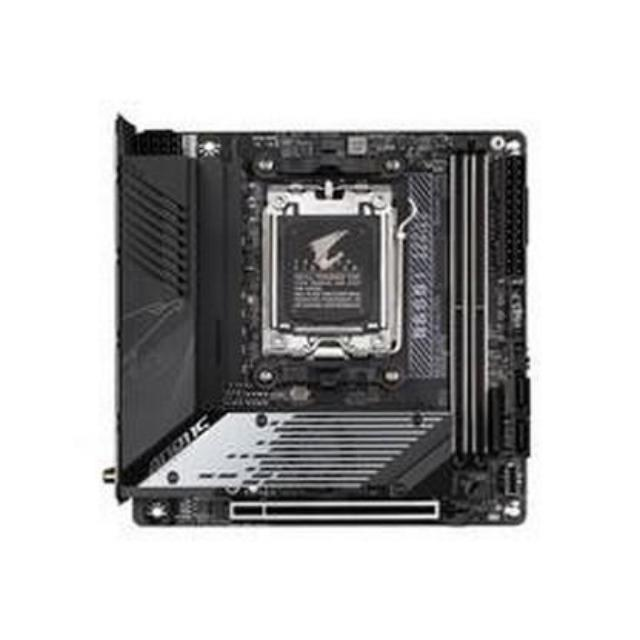Mainboard: (111, 118, 534, 533)
